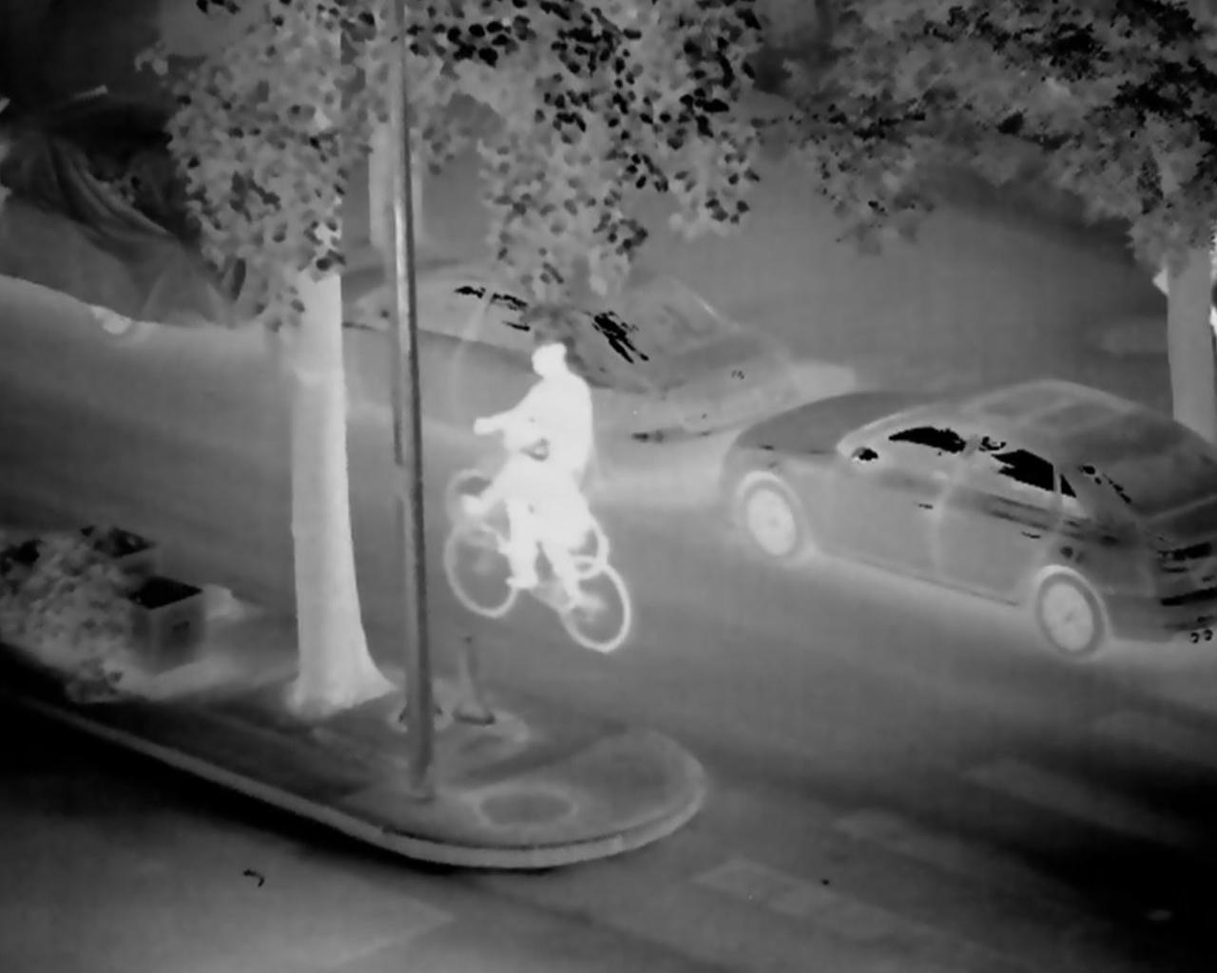person: (463, 414, 599, 622), (491, 336, 614, 513)
